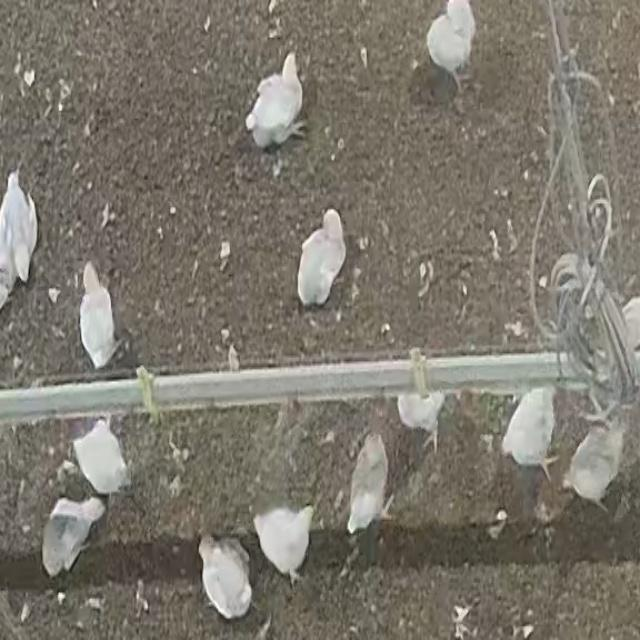chicken: (245, 49, 305, 153), (562, 418, 626, 512), (0, 171, 43, 306), (42, 494, 107, 580), (502, 387, 559, 477), (251, 504, 315, 584), (196, 534, 253, 622), (293, 214, 346, 308), (71, 417, 130, 497), (346, 432, 390, 537), (78, 261, 115, 370), (430, 0, 479, 82), (397, 397, 438, 450)
